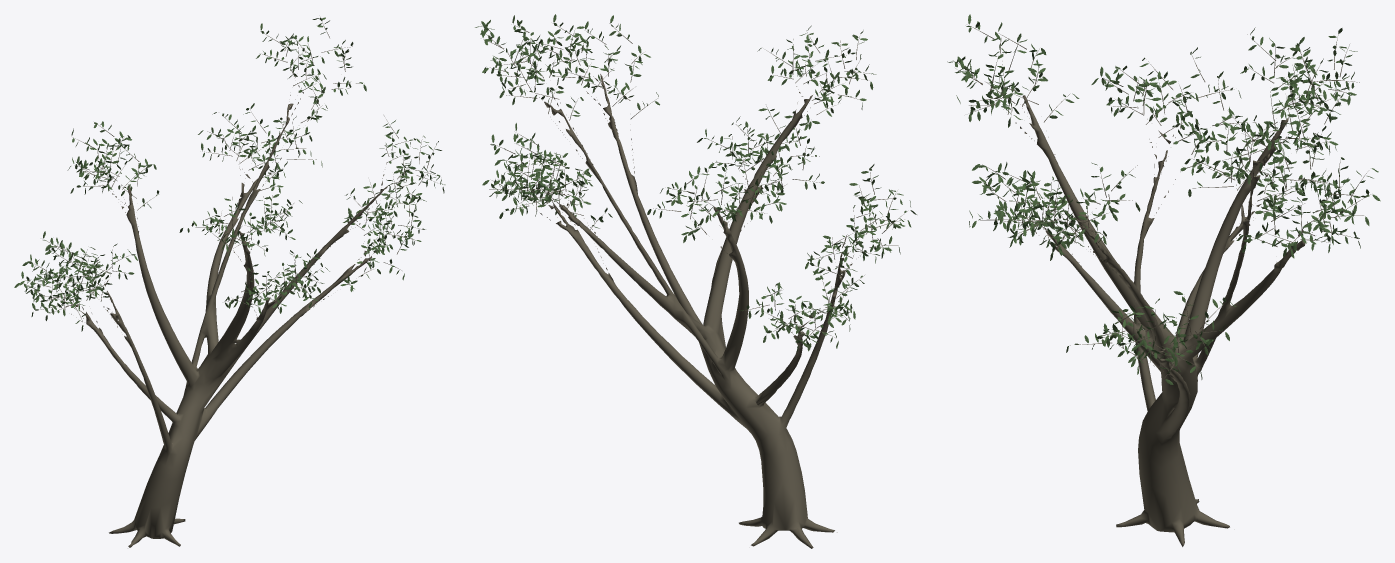
The model's file is CheneVert_2_Niveau0.fbx.
3 renders of one model, left to right at view 1: azimuth 30°, elevation 25°; view 2: azimuth 150°, elevation 25°; view 3: azimuth 270°, elevation 25°, orthographic. The views are drawn at different scales.
Visible parts, largest first — view 1: CheneVert_2_Niveau0; view 2: CheneVert_2_Niveau0; view 3: CheneVert_2_Niveau0.
Part boxes in pixels (box(x1,y1,x2,y2)): CheneVert_2_Niveau0: box(14, 17, 445, 547); CheneVert_2_Niveau0: box(475, 14, 916, 548); CheneVert_2_Niveau0: box(947, 14, 1380, 546).
Size of the model in its own units: 435 by 486 by 332.
